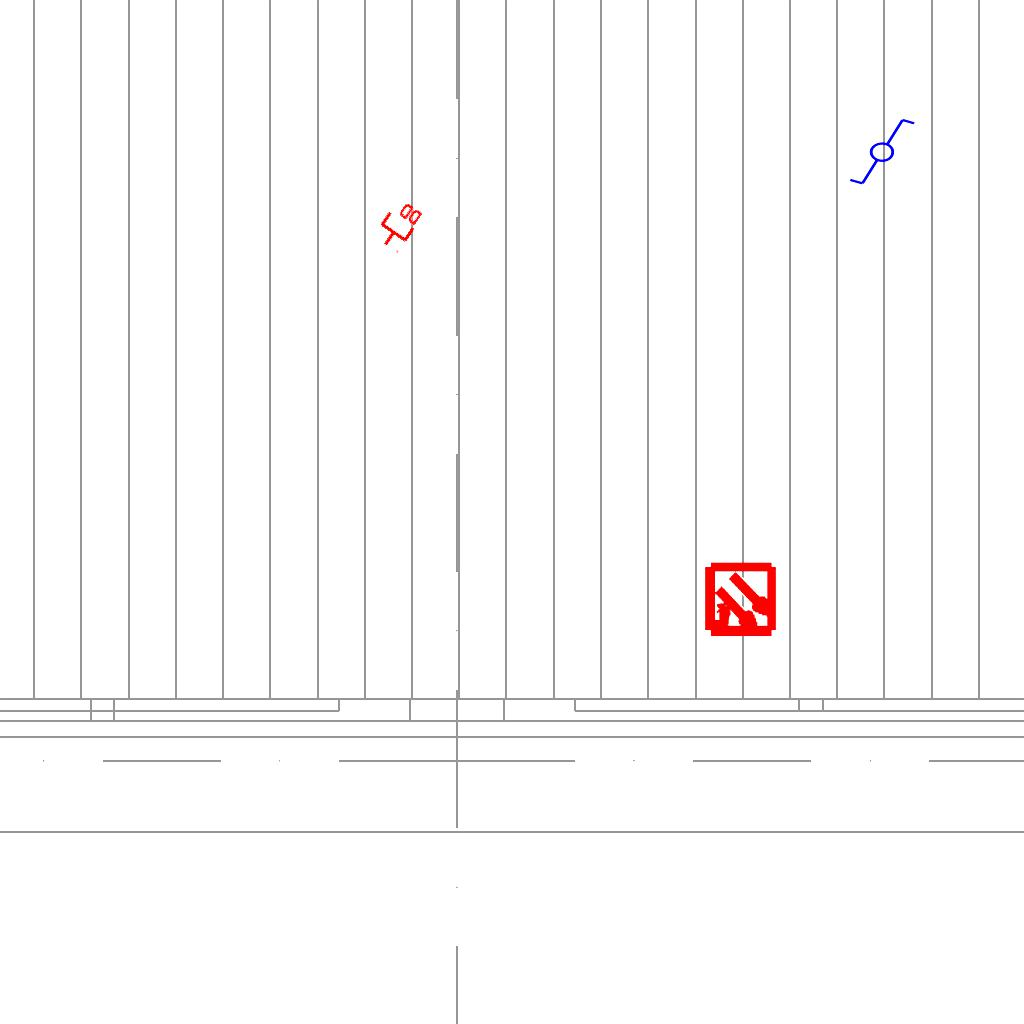Datenanschluss_zweifach: (369, 193, 427, 256)
OT_Multisensormelder_(Kombination_RMO_WMD): (684, 545, 797, 658)
Wechselschalter: (839, 115, 917, 187)
